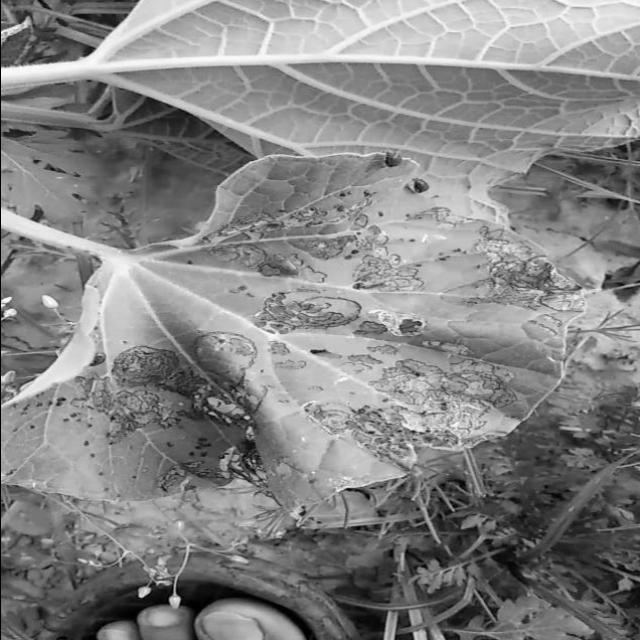Pumpkin Beetle: (263, 326, 535, 475), (43, 322, 259, 443), (204, 180, 401, 292), (462, 223, 560, 317), (265, 282, 367, 336), (134, 444, 248, 489), (376, 301, 440, 337), (252, 453, 310, 479), (363, 143, 415, 172), (398, 172, 441, 200)
